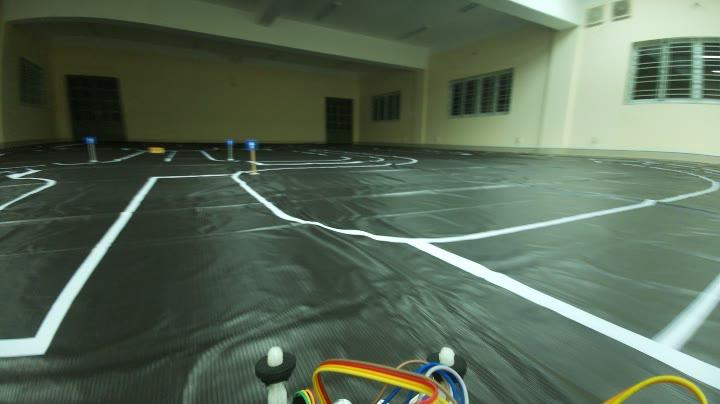onewayroad: (244, 136, 260, 151), (226, 136, 234, 148), (84, 135, 93, 144)
roadblock: (147, 146, 171, 155)
